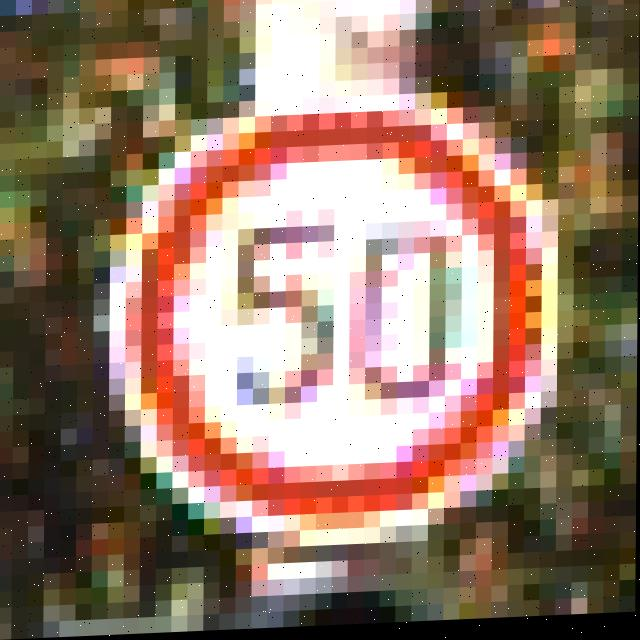speed_limit_50: (93, 106, 618, 539)
